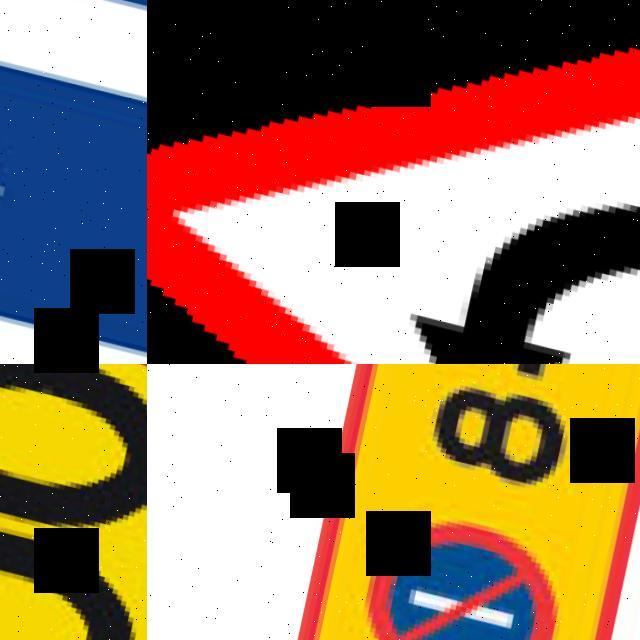181: (284, 364, 640, 640)
78: (0, 0, 147, 364)
Left curve: (147, 0, 640, 364)
speed limit-100: (0, 364, 147, 640)
